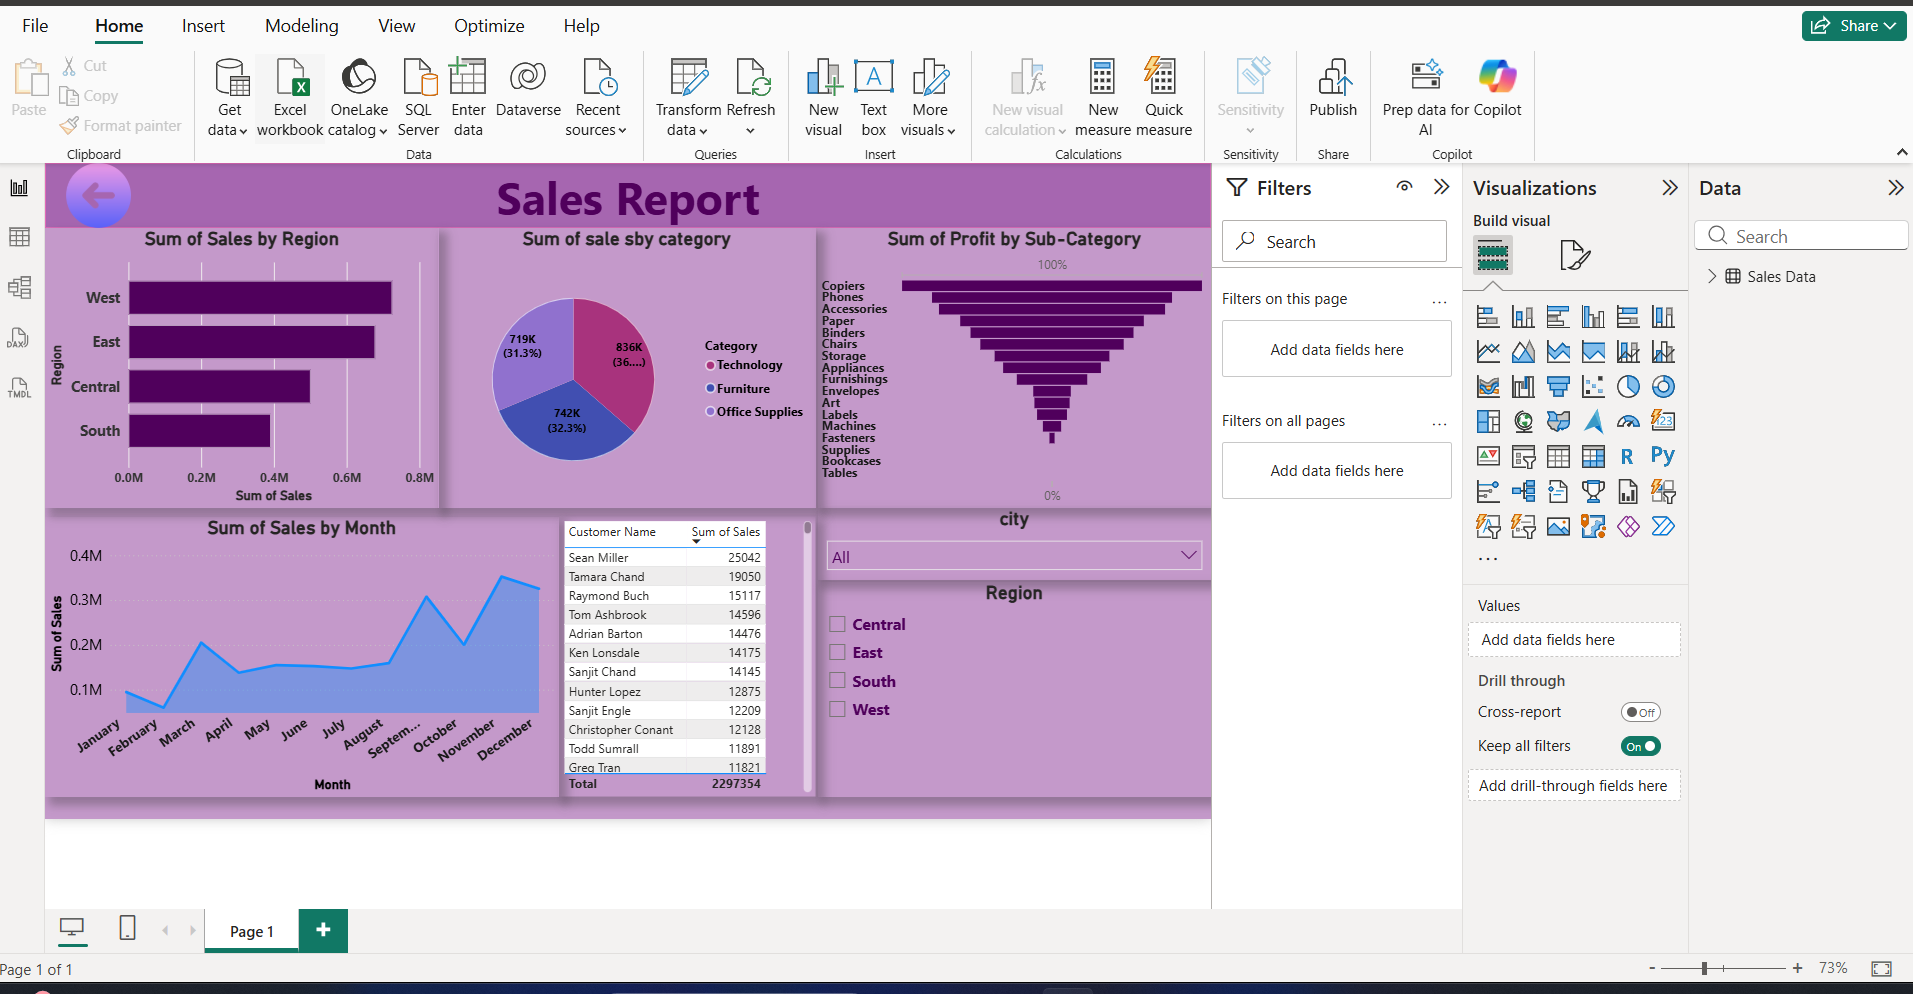

The page's visual inventory and layout, read from the dashboard file:
{"tool":"powerbi","page":{"name":"Page 1","canvas":[1280,720],"ordinal":0},"visuals":[{"type":"shape","box":[0,0,1280.3,71.4],"z":0},{"type":"barChart","fields":{"Category":["Sales Data.Region"],"Y":["Sum(Sales Data.Sales)"]},"box":[0,71.4,432.2,307.4],"z":1},{"type":"pieChart","title":"Sum of sale sby category","fields":{"Y":["Sum(Sales Data.Sales)"],"Category":["Sales Data.Category"]},"box":[430.9,71.4,415.8,307.4],"z":2},{"type":"funnel","fields":{"Category":["Sales Data.Sub-Category"],"Y":["Sum(Sales Data.Profit)"]},"box":[848,71.4,432.2,307.4],"z":3},{"type":"areaChart","fields":{"Category":["Sales Data.Order Date.Variation.Date Hierarchy.Month"],"Y":["Sum(Sales Data.Sales)"]},"box":[0,388.3,564,307.4],"z":4},{"type":"tableEx","fields":{"Values":["Sales Data.Customer Name","Sum(Sales Data.Sales)"]},"box":[564,388.3,282.7,307.4],"z":5},{"type":"slicer","title":"city","fields":{"Values":["Sales Data.City"]},"box":[848,378.7,432.2,79.6],"z":7},{"type":"slicer","title":"Region","fields":{"Values":["Sales Data.Region"]},"box":[848,459.7,432.2,236],"z":10},{"type":"image","box":[0,0,116.9,71.3],"z":11}]}

Visuals, with their boxes on the page's 1280x720 design canvas (x1, y1, x2, y2). These are canvas units, not pixel positions in the 1913x994 screenshot, which may show the page scaled, cropped or inside an application window:
shape: <box>0,0,1280,71</box>
barChart - Sales Data.Region x Sum(Sales Data.Sales): <box>0,71,432,379</box>
"Sum of sale sby category" pieChart: <box>431,71,847,379</box>
funnel - Sales Data.Sub-Category x Sum(Sales Data.Profit): <box>848,71,1280,379</box>
areaChart - Sales Data.Order Date.Variation.Date Hierarchy.Month x Sum(Sales Data.Sales): <box>0,388,564,696</box>
tableEx - Sales Data.Customer Name x Sum(Sales Data.Sales): <box>564,388,847,696</box>
"city" slicer: <box>848,379,1280,458</box>
"Region" slicer: <box>848,460,1280,696</box>
image: <box>0,0,117,71</box>
